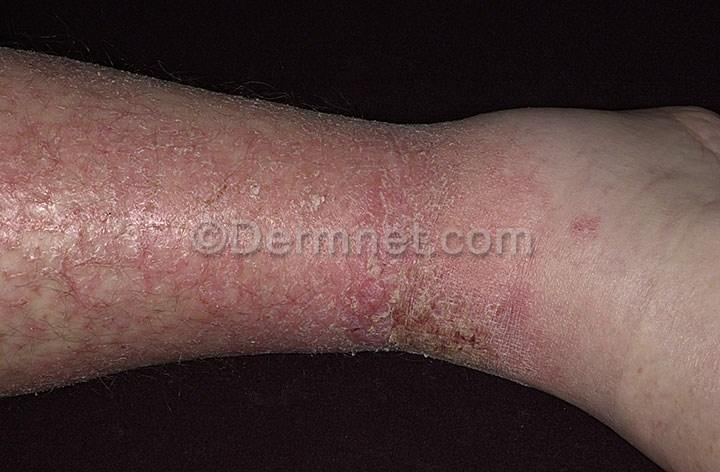Eczema: (143, 90, 309, 241), (0, 63, 144, 236), (0, 235, 173, 374), (312, 121, 448, 245), (307, 250, 482, 340), (157, 220, 304, 319), (482, 260, 569, 382)
